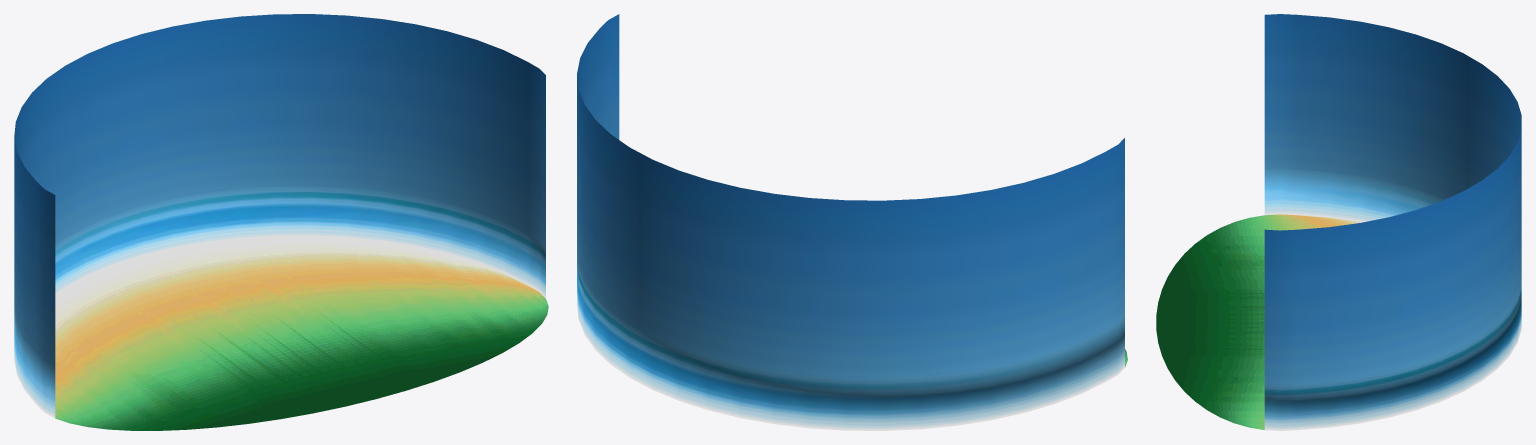
The model's file is Arena_Field.fbx.
3 views of the same model, side by side, from view 1: azimuth 30°, elevation 25°; view 2: azimuth 150°, elevation 25°; view 3: azimuth 270°, elevation 25° (orthographic). The views are drawn at different scales.
Visible parts, largest first — view 1: polygon1, polygon0; view 2: polygon1; view 3: polygon1, polygon0.
Boxes of the visible parts, x1,y1,x2,y2 form: polygon1: (14, 14, 545, 418); polygon0: (55, 237, 548, 430); polygon1: (577, 14, 1124, 430); polygon1: (1264, 14, 1521, 430); polygon0: (1156, 214, 1362, 429).
Size of the model in its own units: 871 by 376 by 621.
